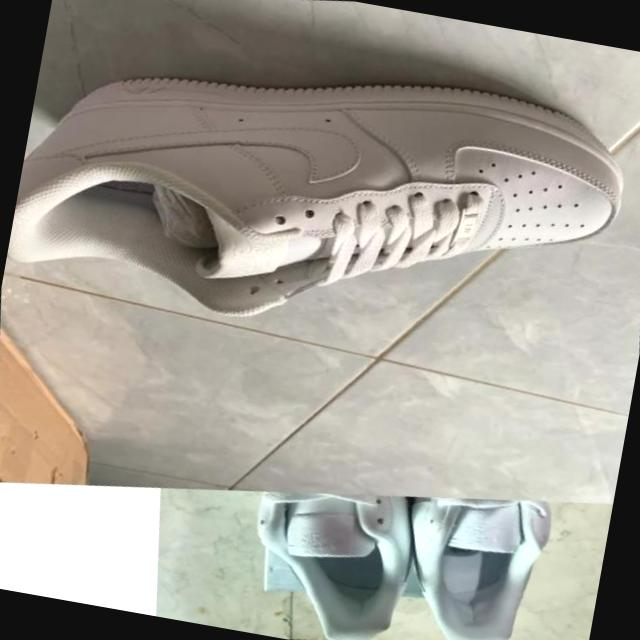nike_original_airforce: (0, 0, 640, 411)
